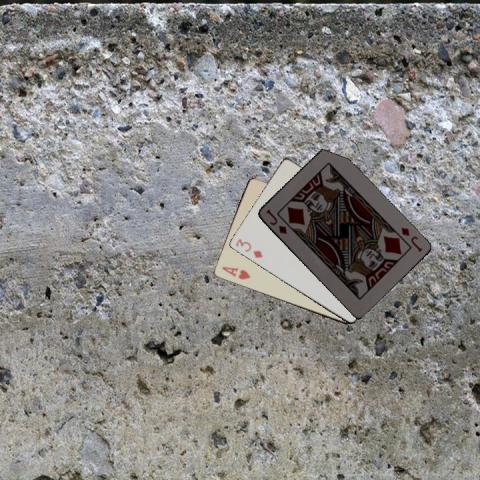3d: (232, 236, 264, 260)
Ah: (219, 264, 251, 282)
Jd: (398, 224, 424, 253), (263, 206, 288, 235)
